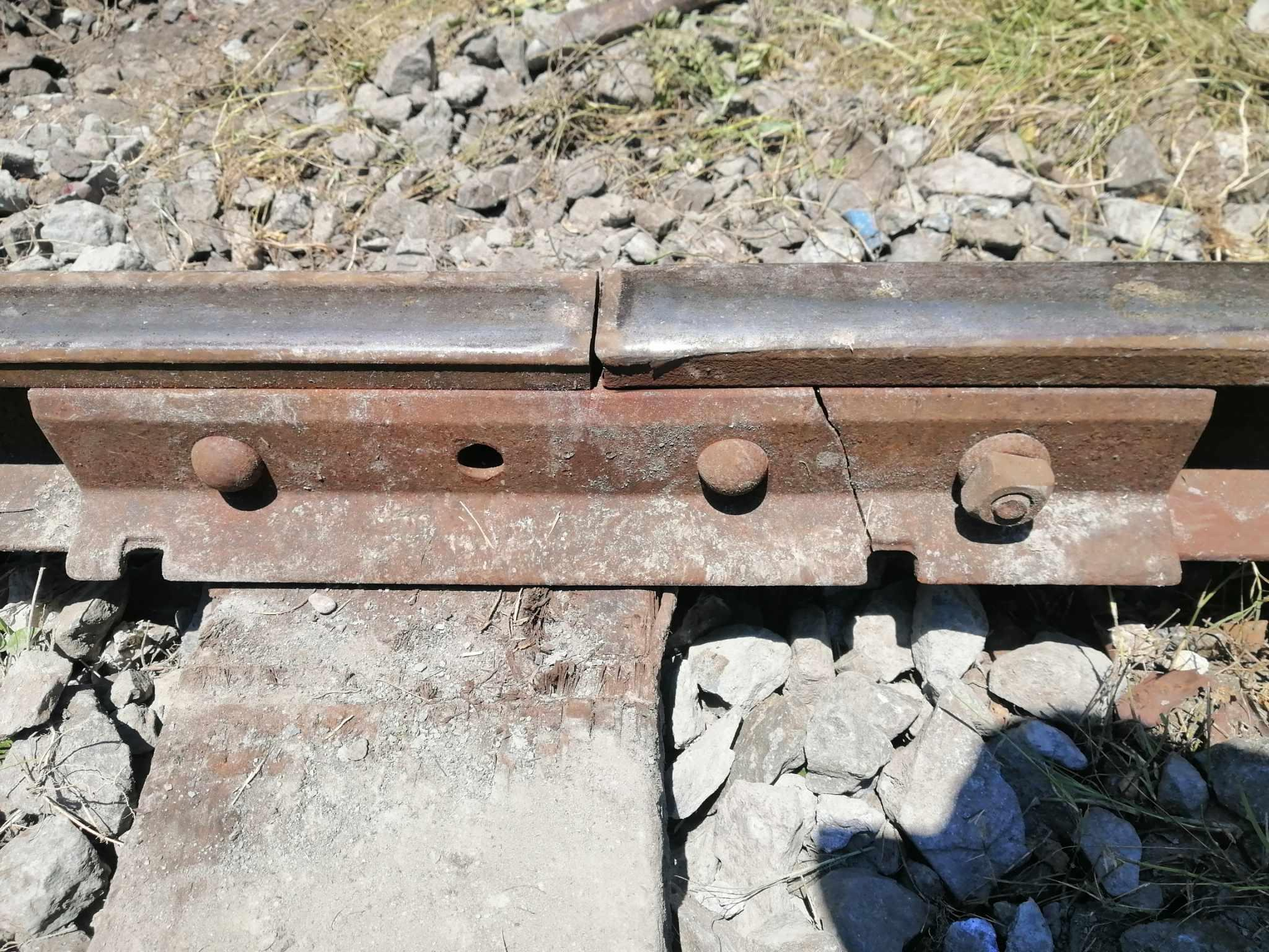railway-gap: (772, 377, 951, 600), (500, 251, 693, 414)
